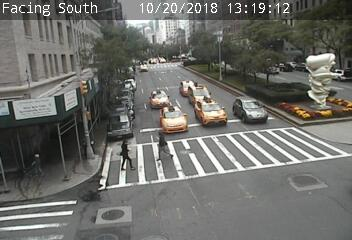car: (233, 97, 268, 124), (195, 99, 226, 126), (159, 107, 186, 133), (188, 85, 212, 108), (150, 90, 170, 108), (180, 80, 197, 97)
